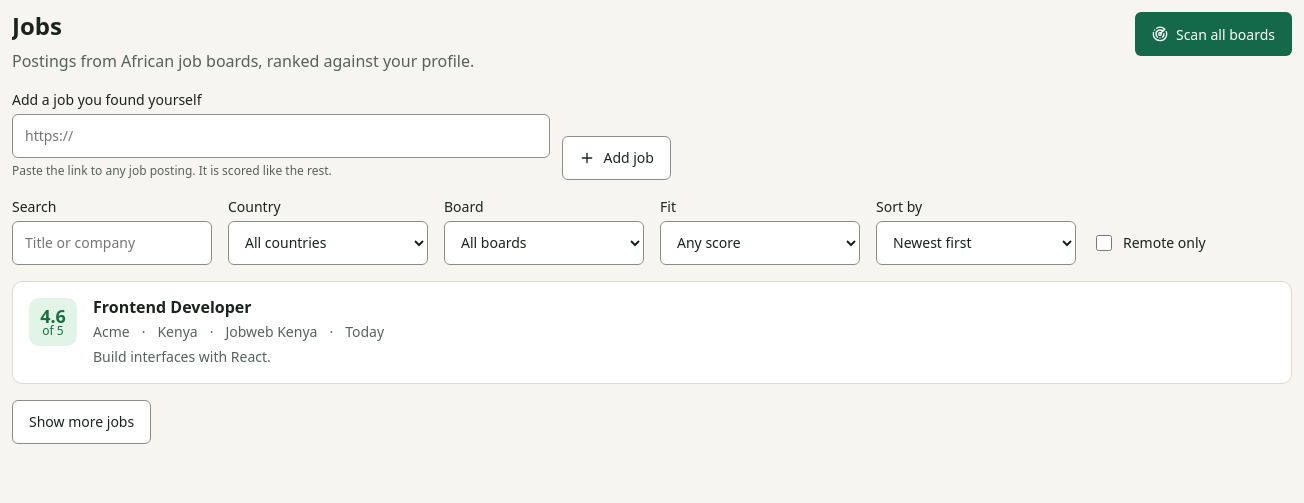
Test: JobsPage › loads the next page when asked
The width and height of the screenshot is (1304, 503).
Click the button "Show more jobs": point(82, 422) [12,400,151,444]
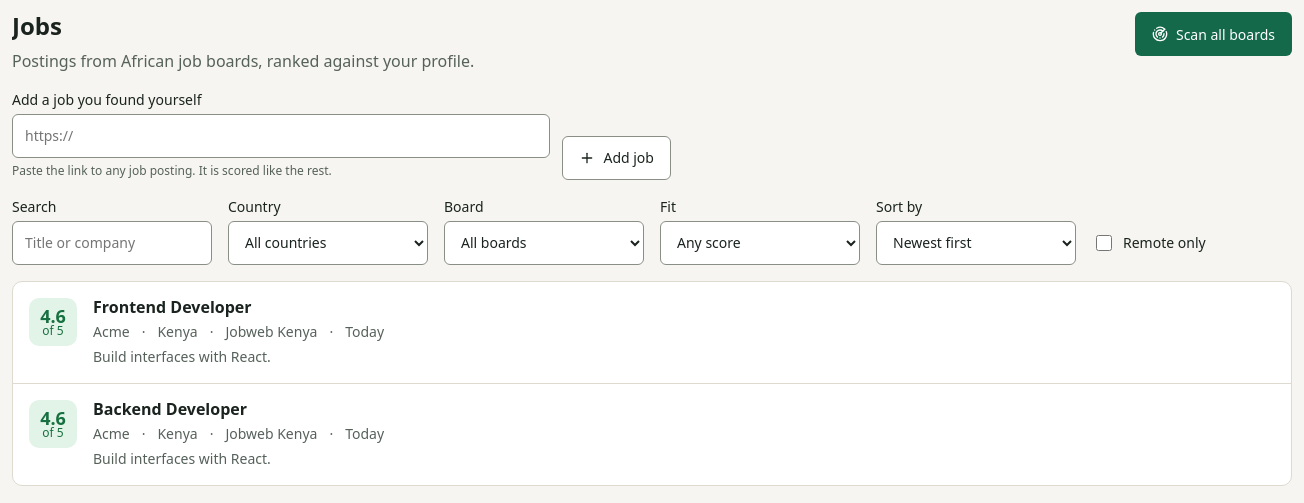
Check: the link "Frontend Developer" is shown, box [93,296,252,318]
Check: the link "Backend Developer" is shown, box [93,398,247,420]
